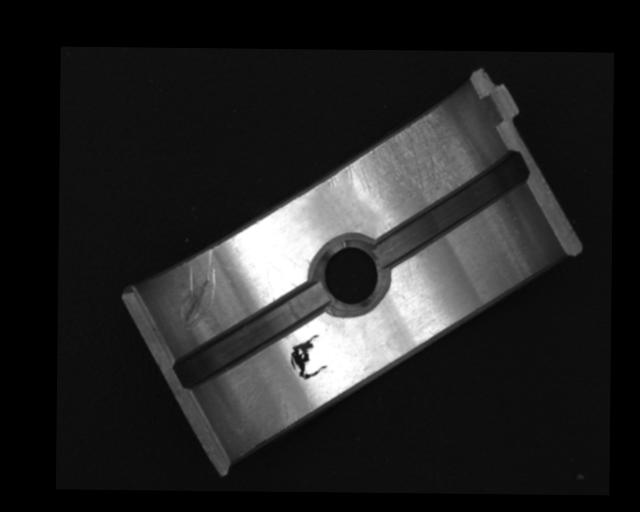blot: (288, 327, 328, 380)
gap: (373, 149, 529, 268), (173, 281, 328, 389)
hole: (309, 235, 390, 316)
nick: (175, 245, 215, 331)
scratch: (326, 104, 481, 204)
